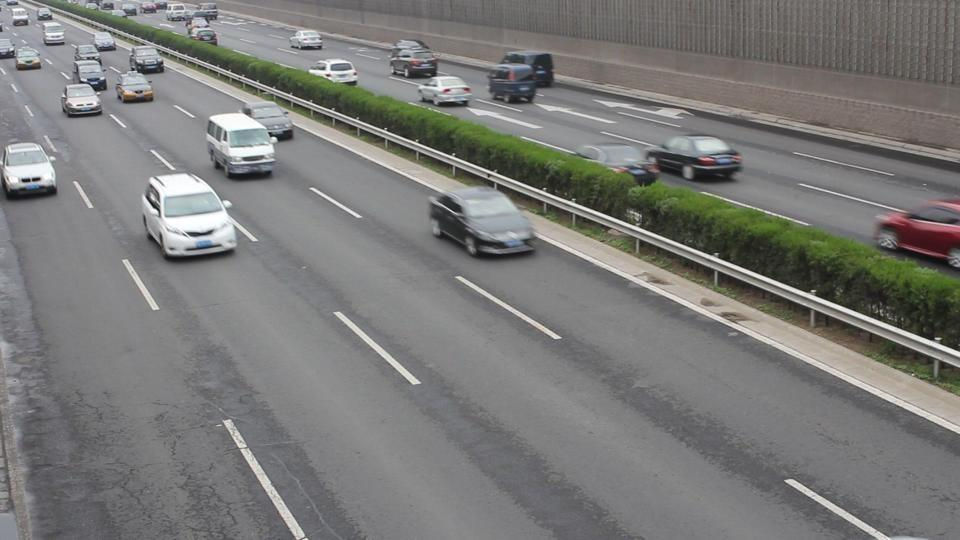car: (139, 171, 239, 259), (428, 186, 537, 258), (872, 198, 960, 268), (205, 111, 277, 179), (646, 135, 744, 182), (575, 143, 659, 189), (0, 141, 58, 199), (491, 50, 556, 93), (239, 99, 294, 143), (488, 64, 543, 104), (388, 40, 439, 80), (414, 75, 474, 107), (61, 84, 103, 117), (308, 59, 359, 86), (115, 72, 156, 104), (76, 57, 108, 92), (129, 47, 166, 74)
